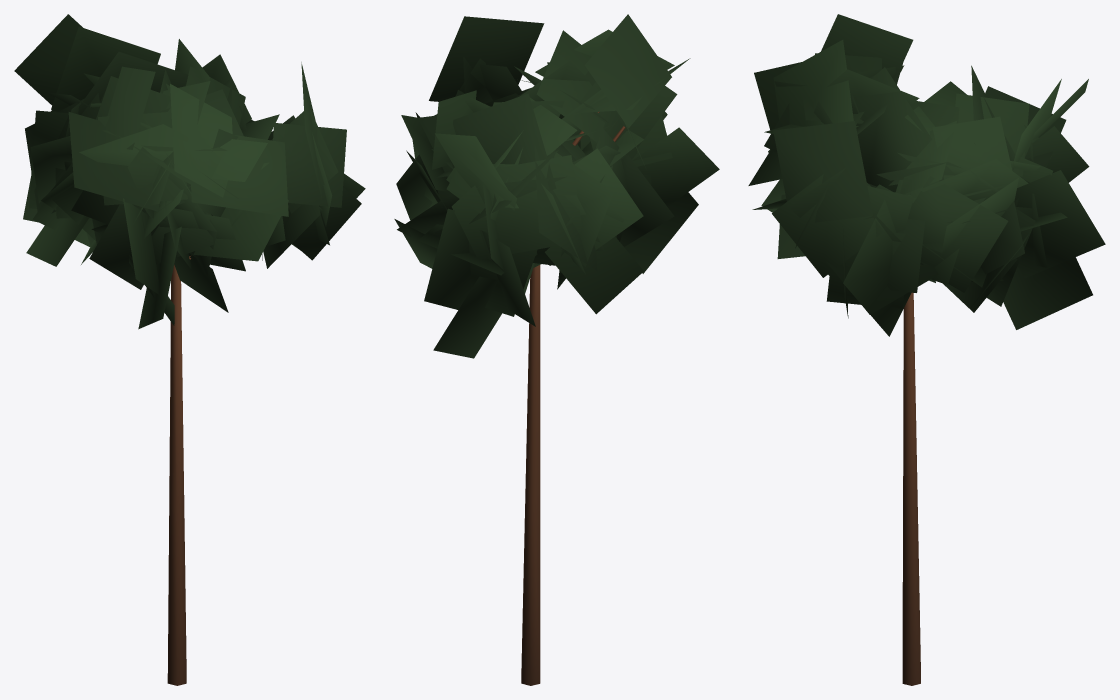
Rendered from SM_Sosna_2.glb.
3 renders of one model, left to right at view 1: azimuth 30°, elevation 25°; view 2: azimuth 150°, elevation 25°; view 3: azimuth 270°, elevation 25°, orthographic. The views are drawn at different scales.
Parts seen in each view (by area): view 1: SM_Sosna_2; view 2: SM_Sosna_2; view 3: SM_Sosna_2.
Part boxes in pixels (x1,y1,x2,y2): SM_Sosna_2: [14, 14, 365, 685]; SM_Sosna_2: [394, 14, 719, 685]; SM_Sosna_2: [748, 14, 1105, 685].
Bounding box in the file's own units: 8.75 × 18.35 × 9.3.
